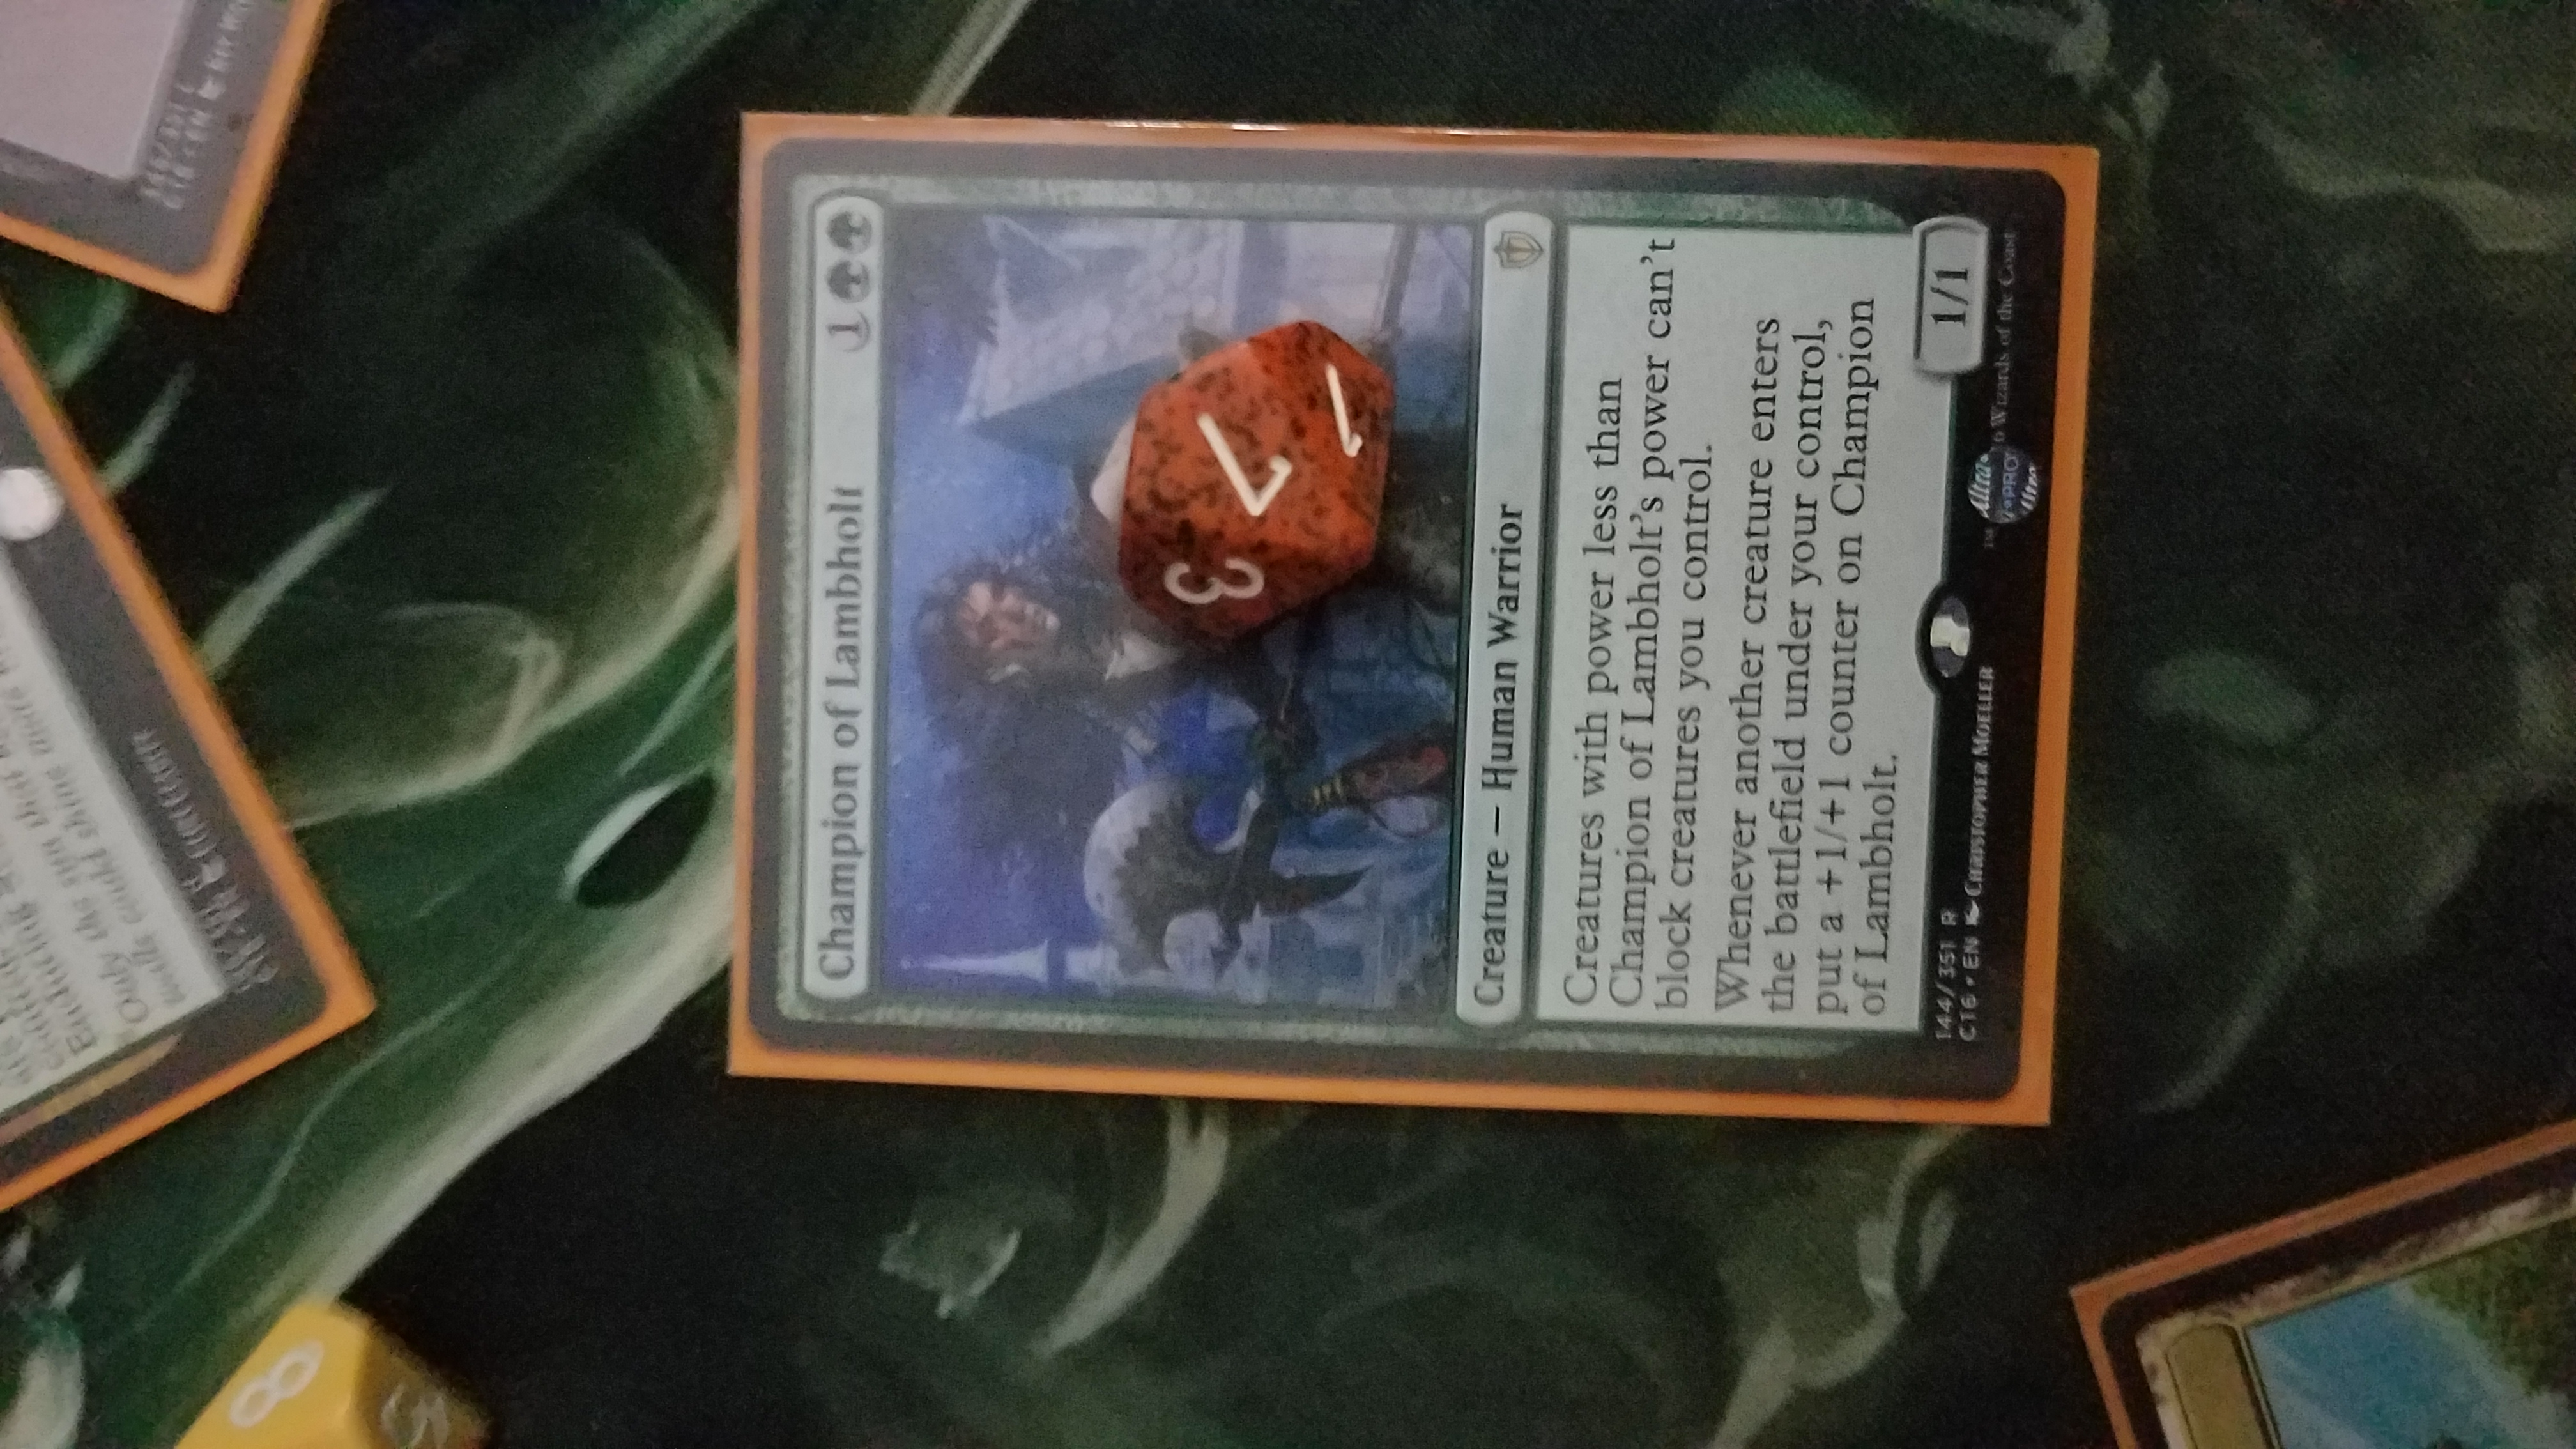Card: (725, 110, 2095, 1152)
